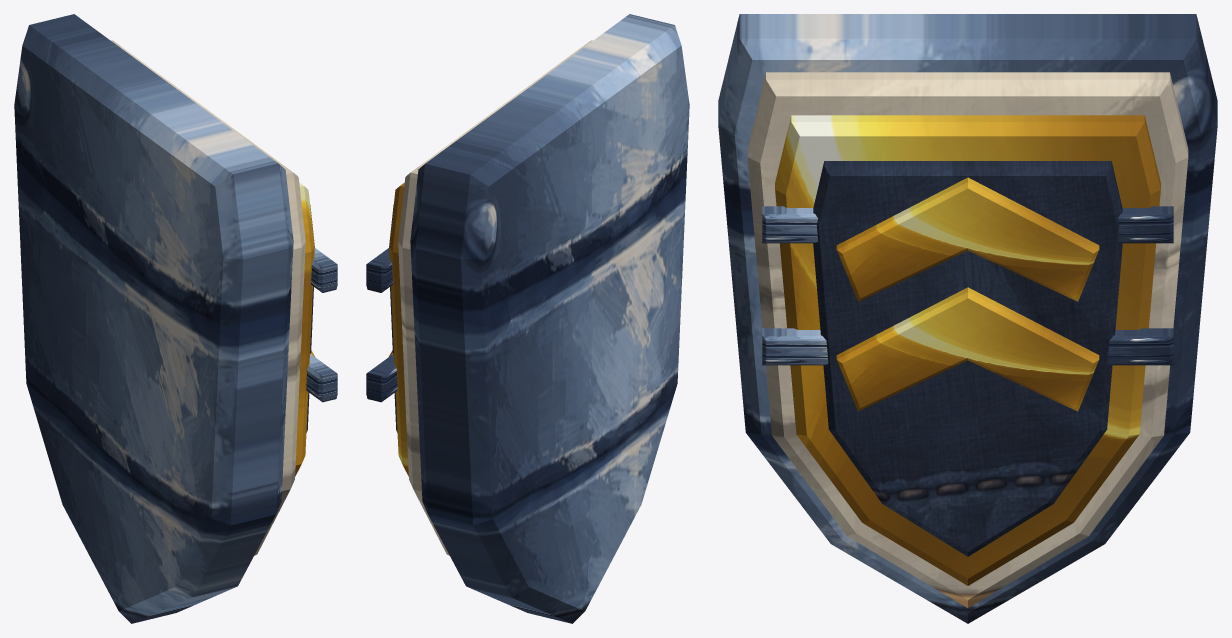
The model's file is guardian.glb.
The picture shows the model from 3 angles, left to right: view 1: azimuth 30°, elevation 25°; view 2: azimuth 150°, elevation 25°; view 3: azimuth 270°, elevation 25°; orthographic projection. The views are drawn at different scales.
Parts seen in each view (by area): view 1: arm_L; view 2: arm_L; view 3: arm_L.
Part boxes in pixels (x1,y1,x2,y2): arm_L: [14, 14, 337, 623]; arm_L: [366, 14, 689, 623]; arm_L: [718, 14, 1217, 623].
Bounding box in the file's own units: 0.2035 × 0.7194 × 0.5563.
4 materials, 4 textured.
